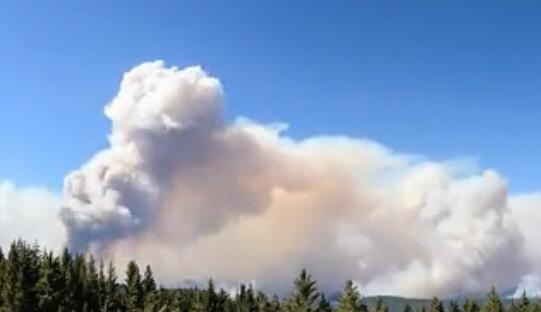yanwu: (52, 57, 538, 297)
